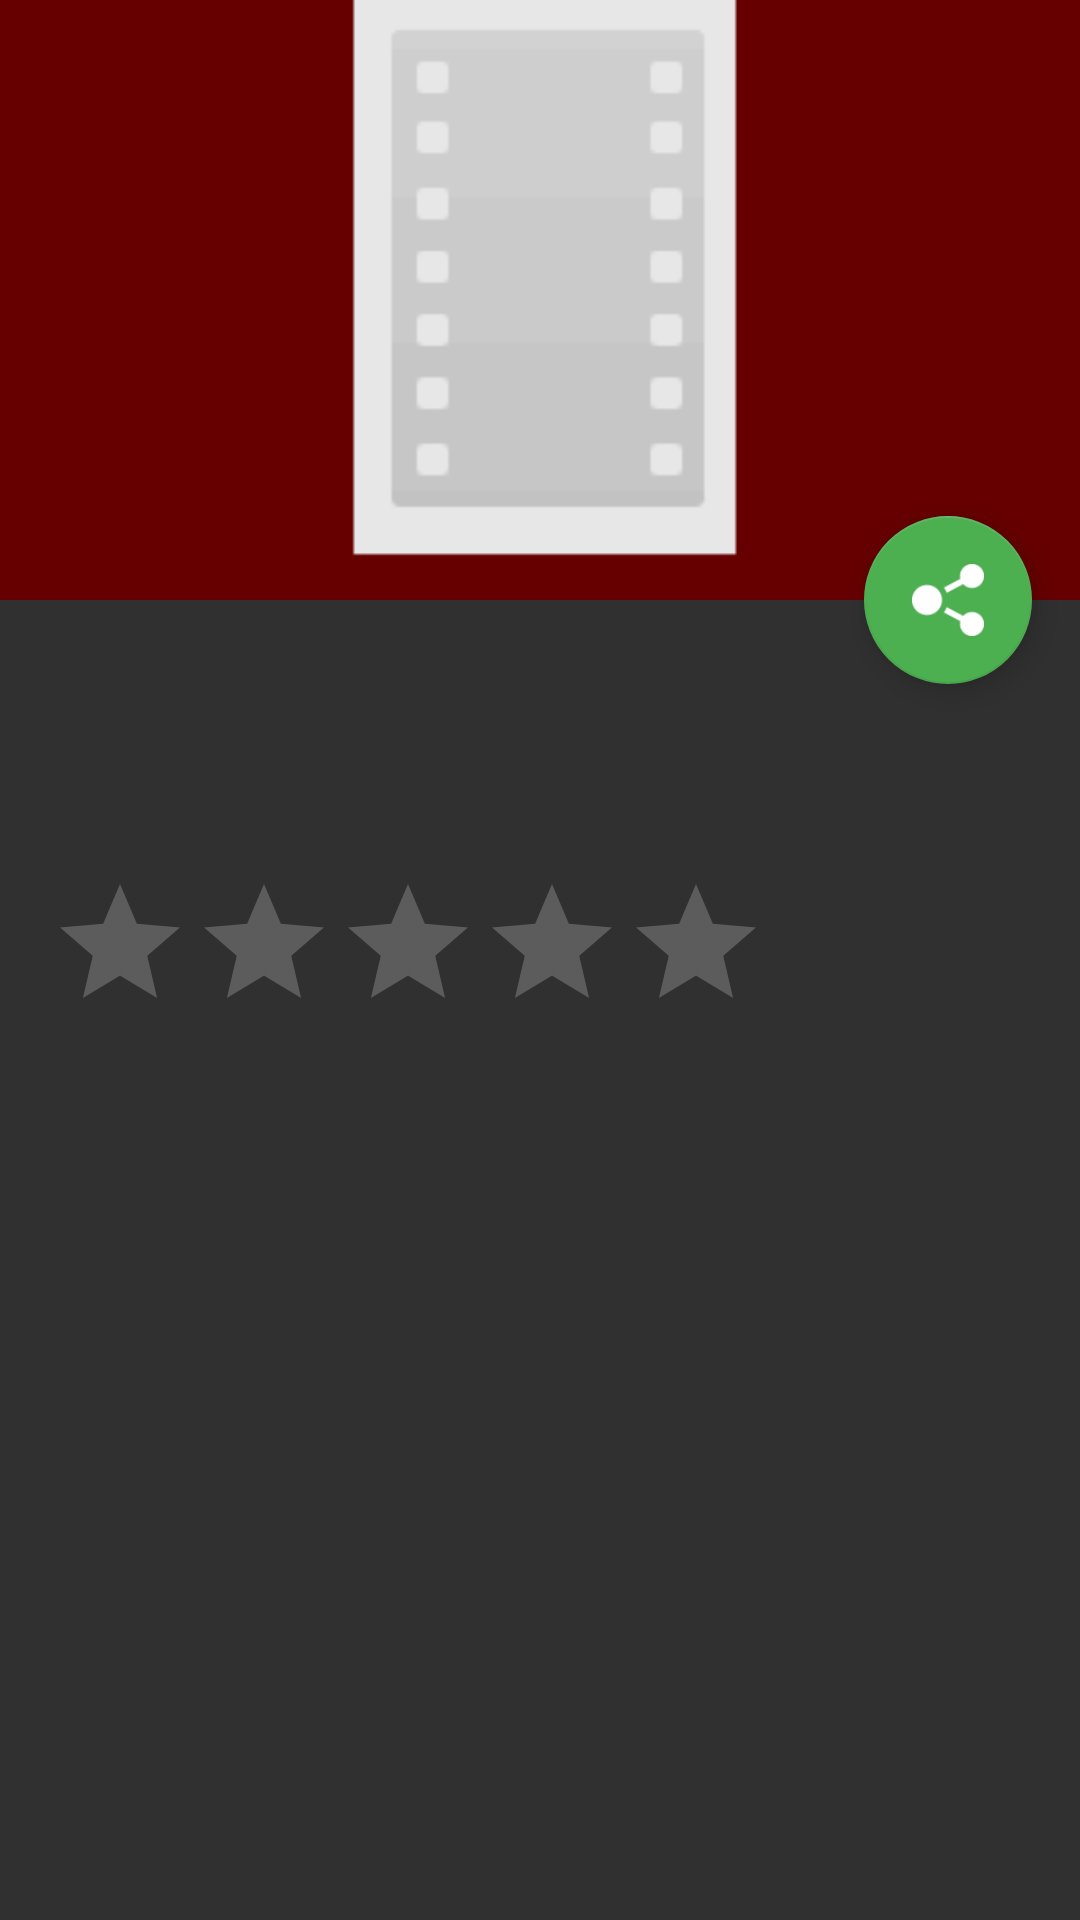

Icons on this 1080×1920 Android screen, each with the point to tap as [x,y]:
iconmonstr share: [948,600]
